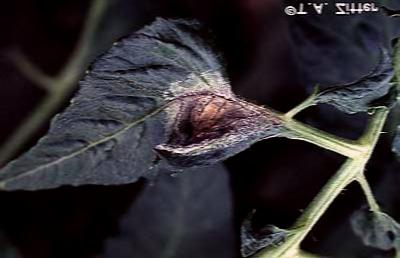Tomato leaf late blight: (2, 19, 283, 204)
